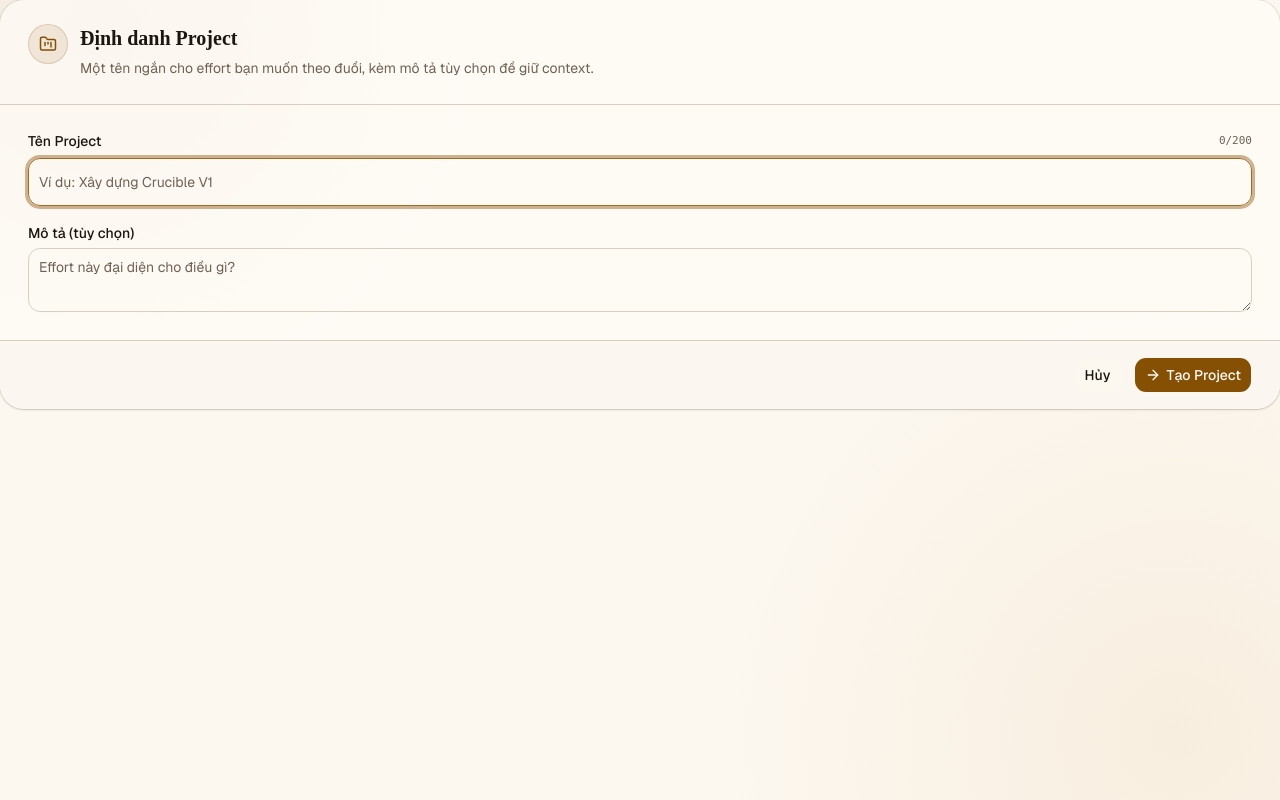
Test: ProjectEditor › keeps what was typed and explains a failed create
The width and height of the screenshot is (1280, 800).
Type "Crucible" into the field labelled "Tên Project" at (640, 182), box [28, 158, 1252, 206]
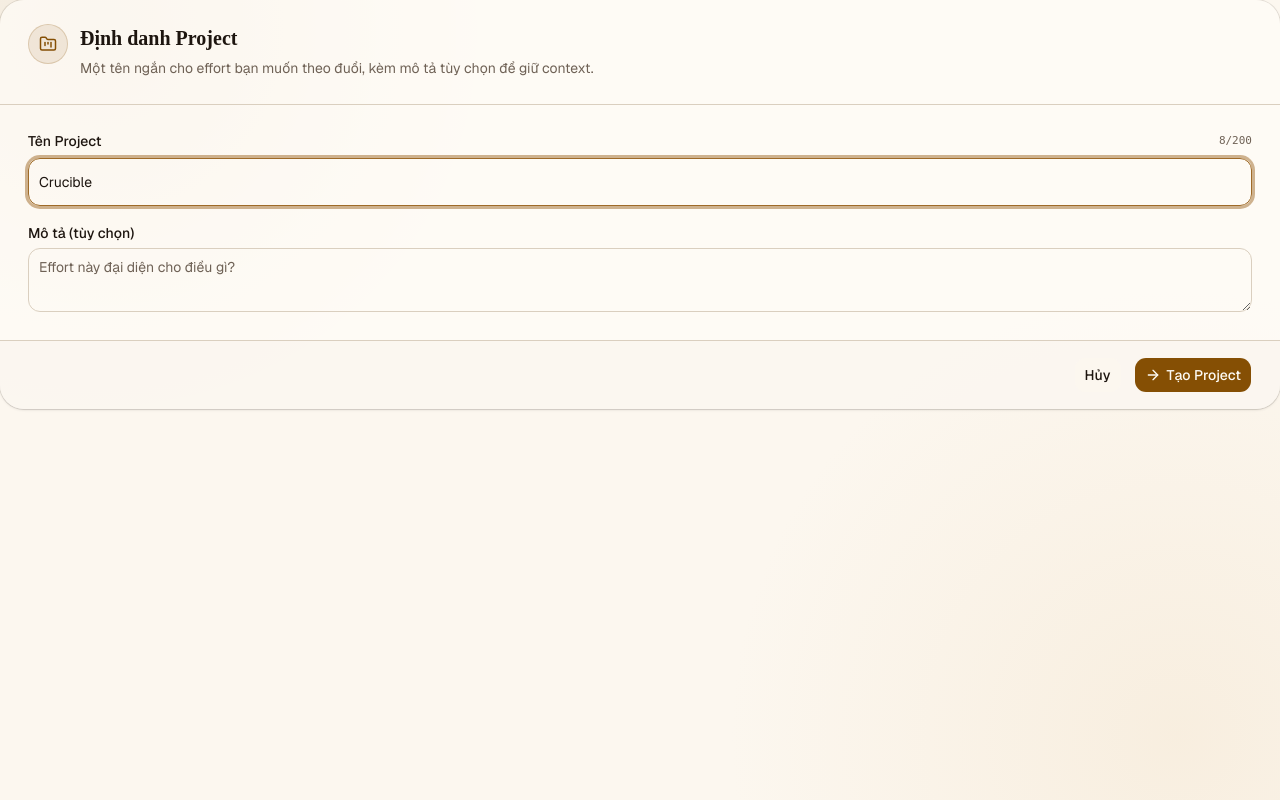
Submit the form named "Tạo Project", box [0, 0, 1279, 408]
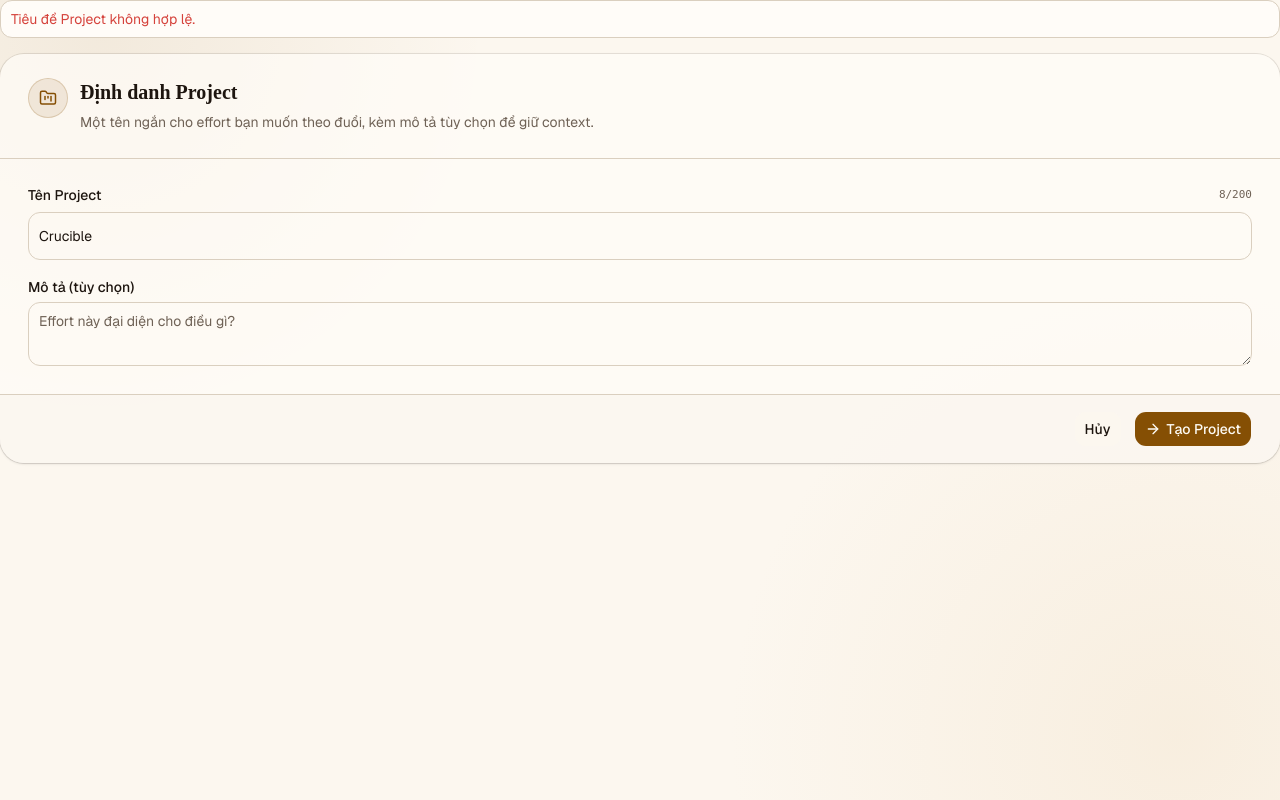
Check: the text "Tiêu đề Project không hợp lệ." is shown, box [11, 10, 195, 28]
